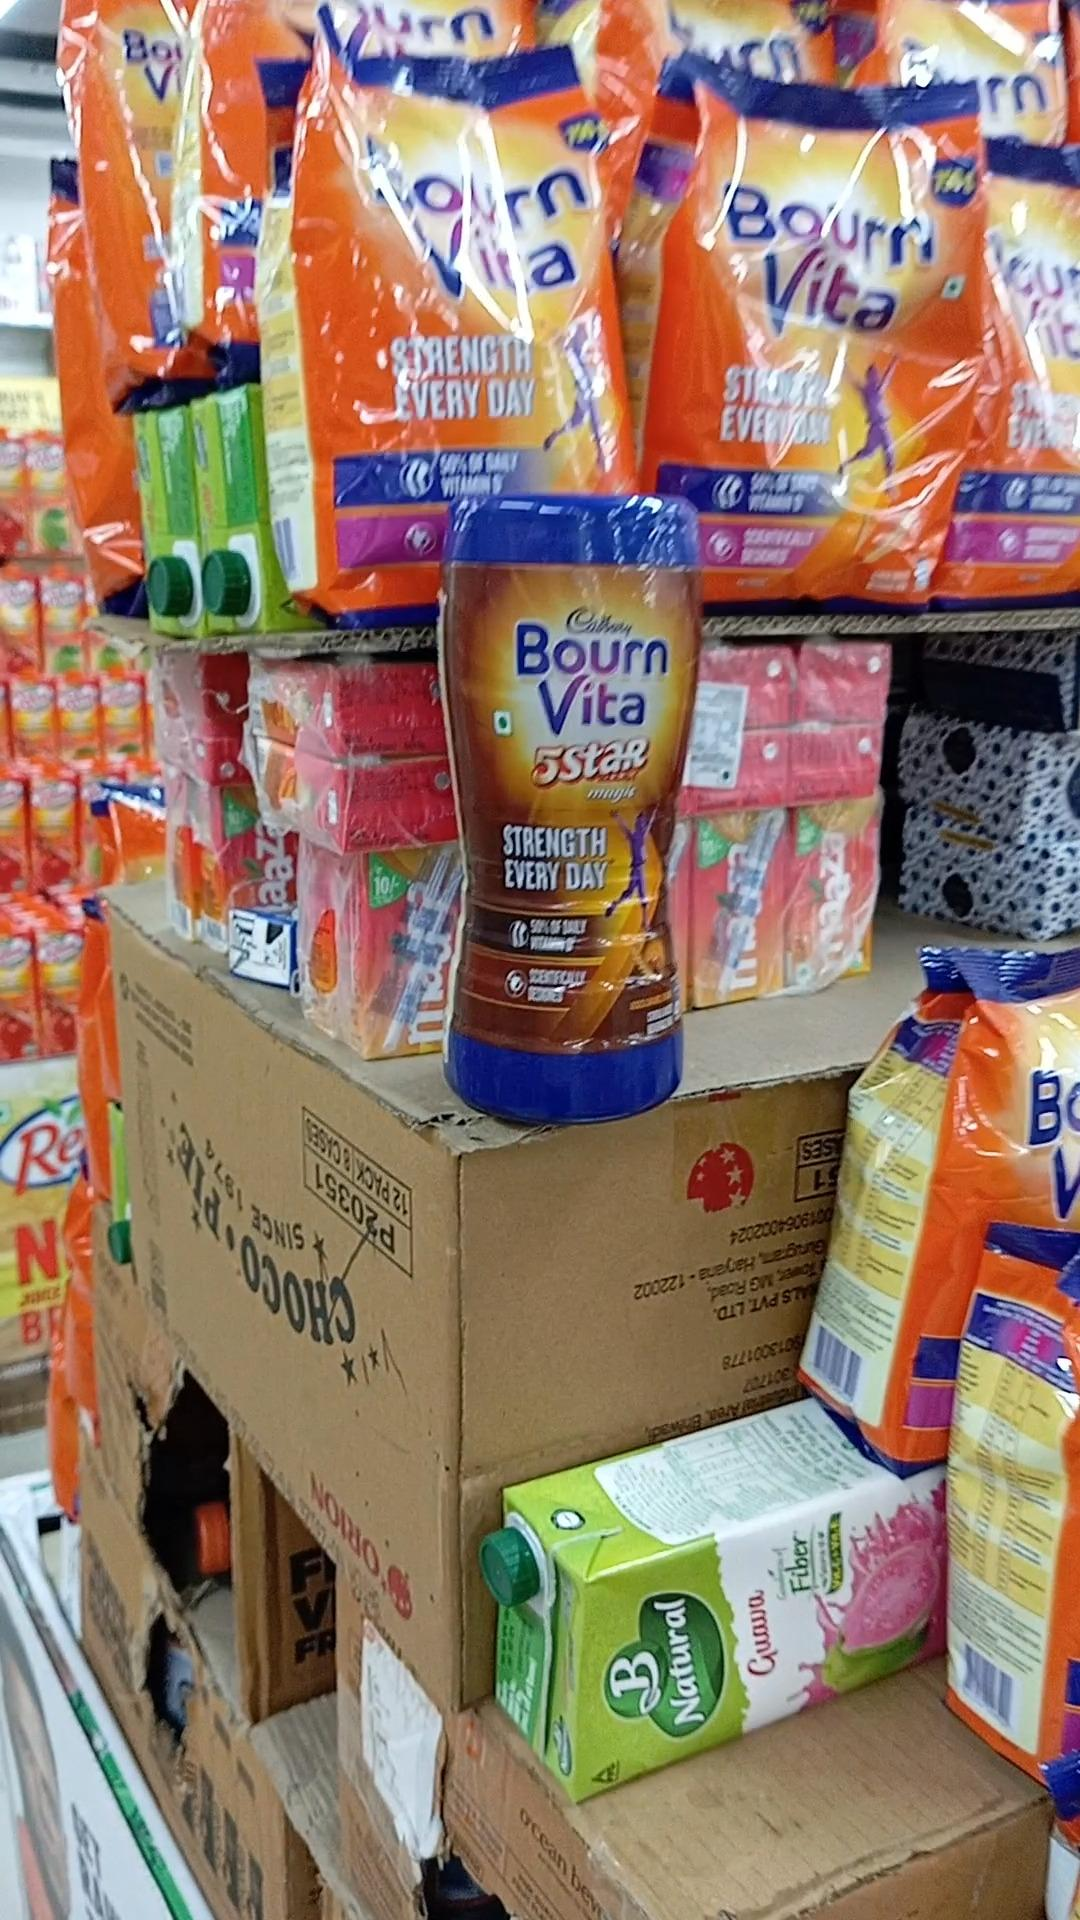COMPLAN_CHOCOLATE_200_GMS_JAR: (439, 491, 696, 1131)
